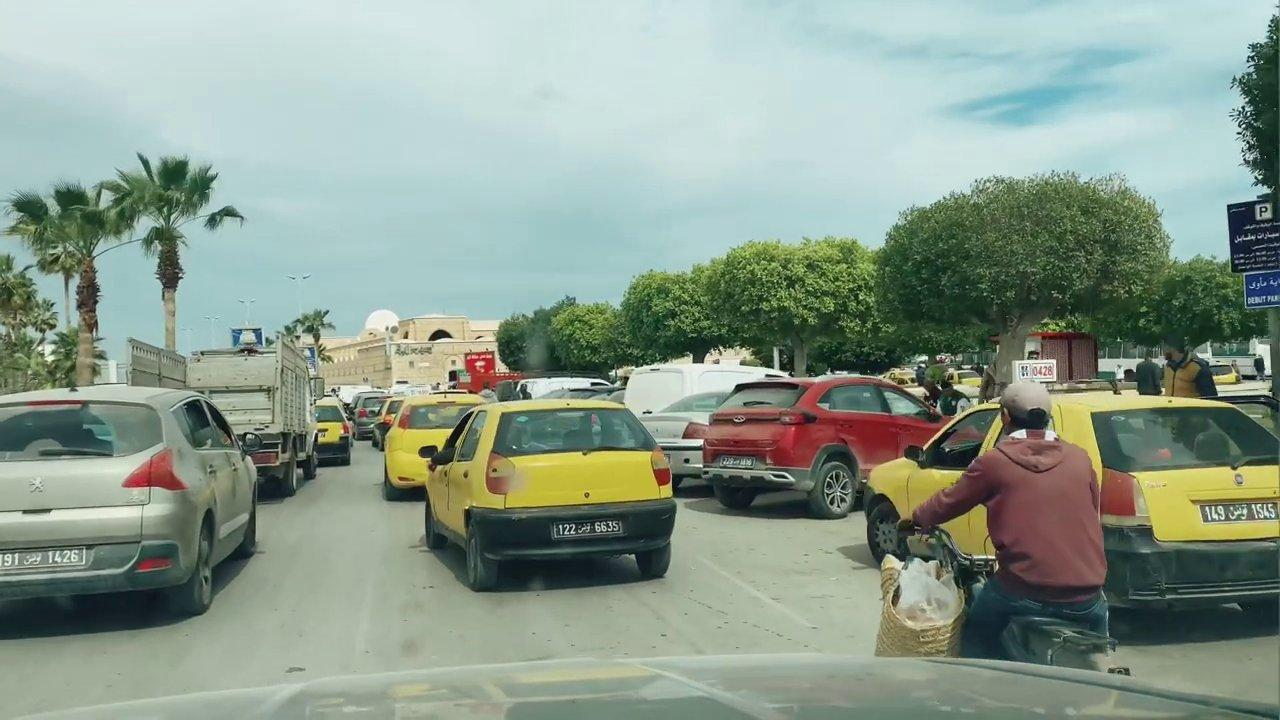pay parking zone: (1226, 198, 1280, 275)
